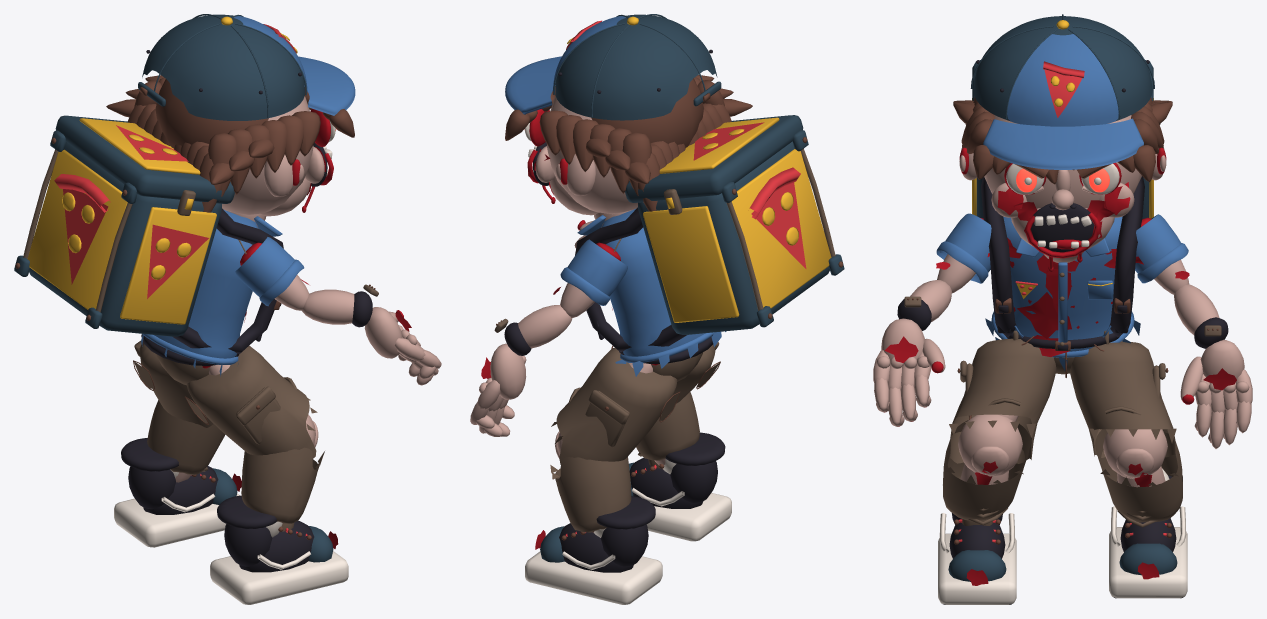
The model's file is inf.delivery-driver.glb.
3 renders of one model, left to right at view 1: azimuth 30°, elevation 25°; view 2: azimuth 150°, elevation 25°; view 3: azimuth 270°, elevation 25°, orthographic. The views are drawn at different scales.
Parts seen in each view (by area): view 1: torso, head, footR, legR, footL, shinR, shinL, armR, handR, legL, foreArmR, hip; view 2: torso, head, footL, legL, footR, shinL, handL, armL, shinR, foreArmL, hip, legR; view 3: head, torso, legL, legR, shinR, shinL, footR, footL, handL, handR, armR, armL (+3 smaller).
Part boxes in pixels (<box>): torso: <box>14,115,283,376</box>; head: <box>106,14,355,228</box>; footR: <box>210,495,348,604</box>; legR: <box>185,345,317,458</box>; footL: <box>114,438,241,547</box>; shinR: <box>241,414,324,523</box>; shinL: <box>147,400,225,482</box>; armR: <box>235,237,309,310</box>; handR: <box>364,307,441,385</box>; legL: <box>133,340,213,427</box>; foreArmR: <box>301,279,378,327</box>; hip: <box>141,334,239,385</box>; torso: <box>575,115,844,376</box>; head: <box>505,14,752,227</box>; footL: <box>525,496,662,604</box>; legL: <box>551,345,679,464</box>; footR: <box>629,432,731,541</box>; shinL: <box>550,431,631,532</box>; handL: <box>470,343,526,436</box>; armL: <box>560,239,627,317</box>; shinR: <box>636,392,699,469</box>; foreArmL: <box>494,287,572,355</box>; hip: <box>619,337,713,381</box>; legR: <box>672,342,720,403</box>; head: <box>953,14,1172,271</box>; torso: <box>965,60,1160,371</box>; legL: <box>1070,341,1176,457</box>; legR: <box>949,336,1056,463</box>; shinR: <box>943,414,1030,525</box>; shinL: <box>1095,429,1182,527</box>; footR: <box>938,513,1016,604</box>; footL: <box>1109,468,1187,598</box>; handL: <box>1180,339,1252,448</box>; handR: <box>873,318,945,426</box>; armR: <box>936,213,991,293</box>; armL: <box>1135,214,1189,294</box>.
Bounding box in the file's own units: 1.07 × 1.8 × 1.12.
